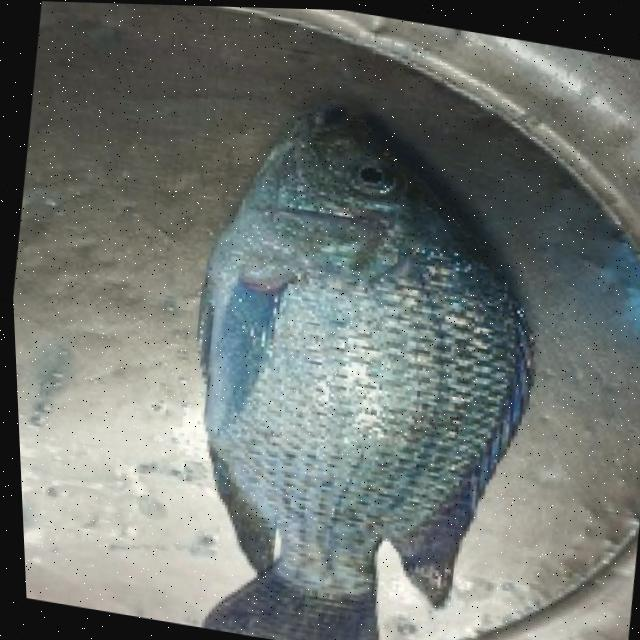Fresh: (144, 82, 582, 604)
